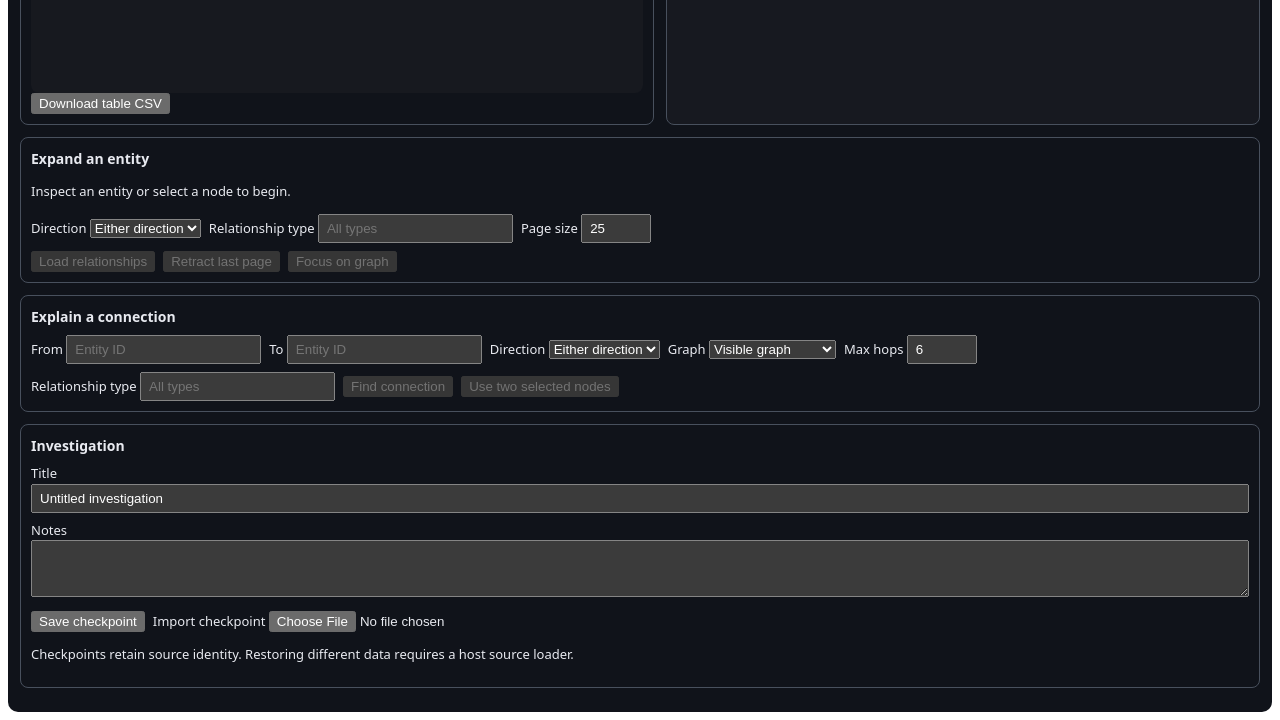
GraphExplorer investigation journeys › creates an internal session safely under StrictMode
This screenshot has width=1280, height=720.
(page scrolled)
Type "Still active" into the text box named "Investigation notes" at (640, 569), box [31,540,1249,597]
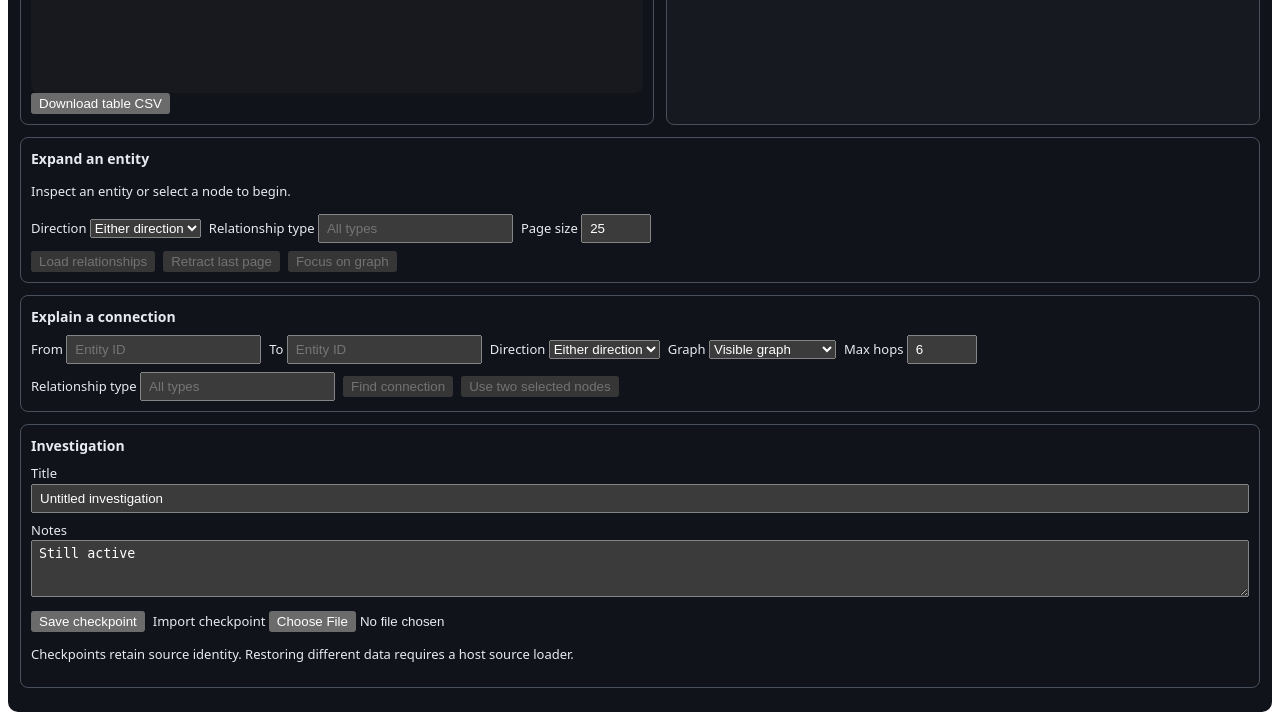
Click the button "Save checkpoint" at (88, 621), box [31,611,145,632]
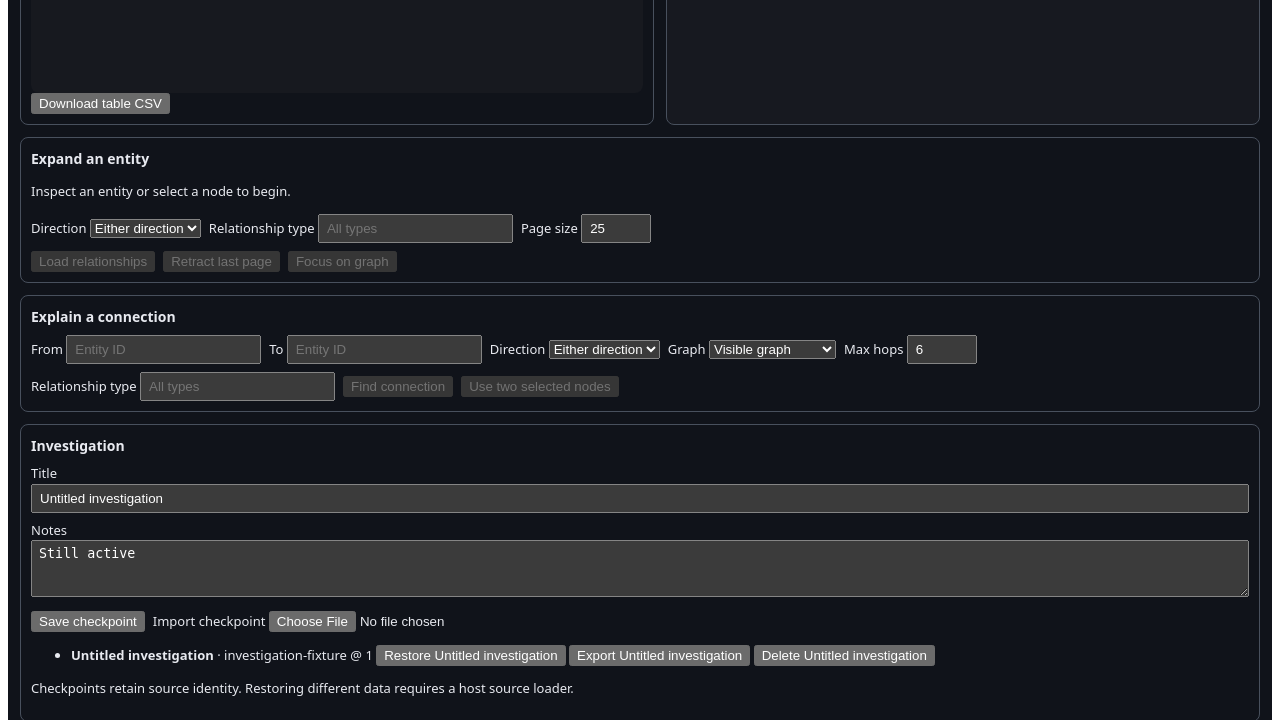
Expected: the button "Restore Untitled investigation" is shown, [376,645,566,666]
